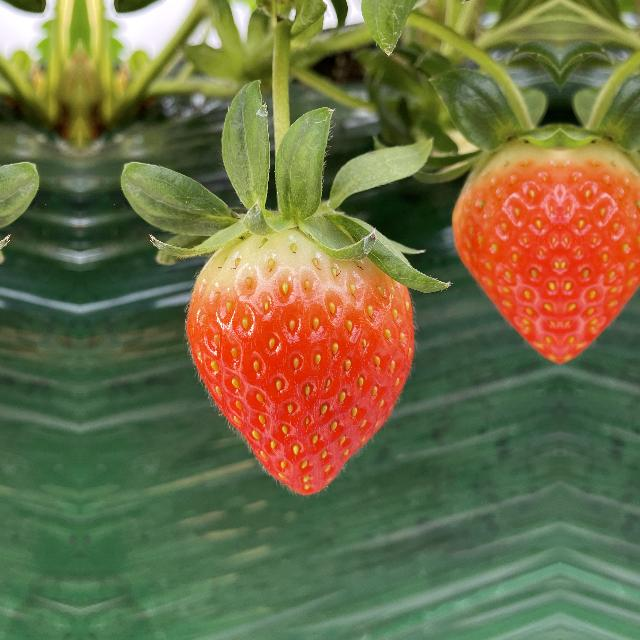Health_100: (183, 198, 424, 506), (448, 133, 560, 375), (560, 133, 640, 375)
